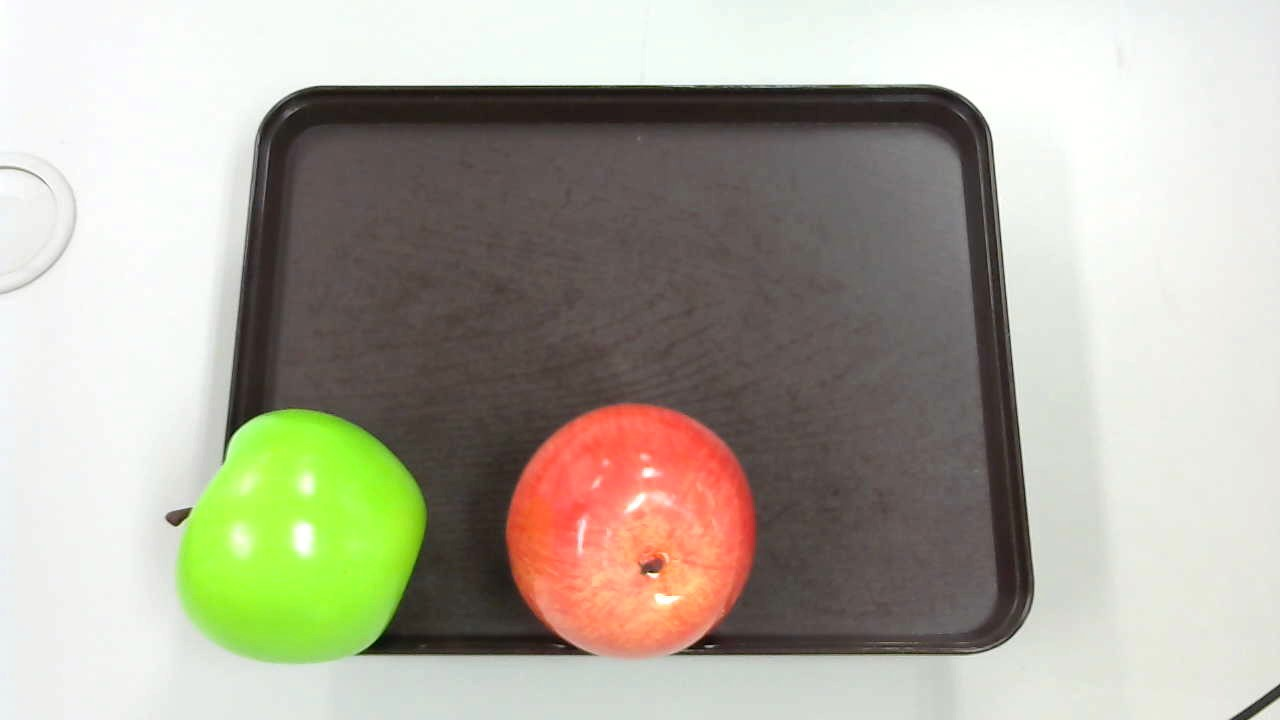green apple: (159, 398, 437, 676)
red apple: (498, 400, 756, 658)
